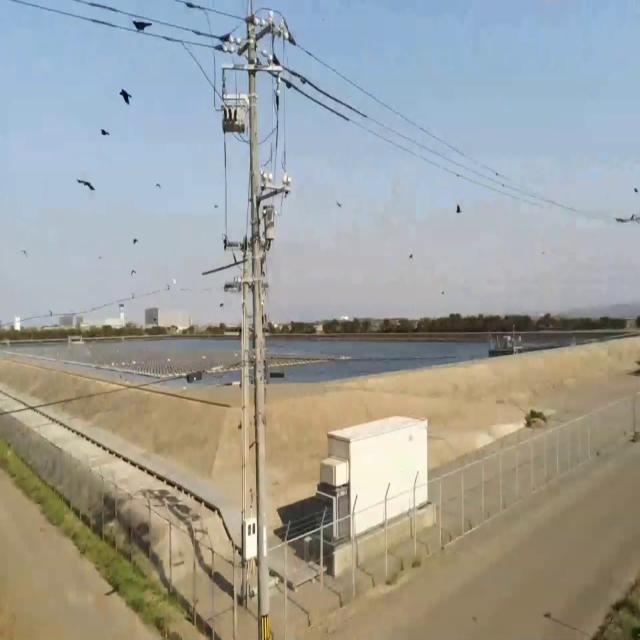bird: (132, 12, 152, 40), (78, 168, 94, 199), (119, 80, 131, 111), (617, 210, 635, 230), (100, 121, 108, 142), (335, 195, 343, 213), (456, 200, 462, 218), (232, 104, 236, 123)
